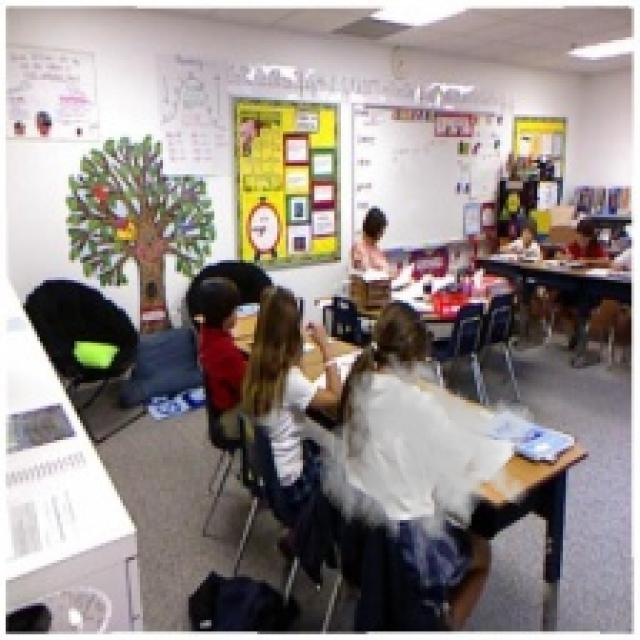smoke: (317, 346, 537, 563)
